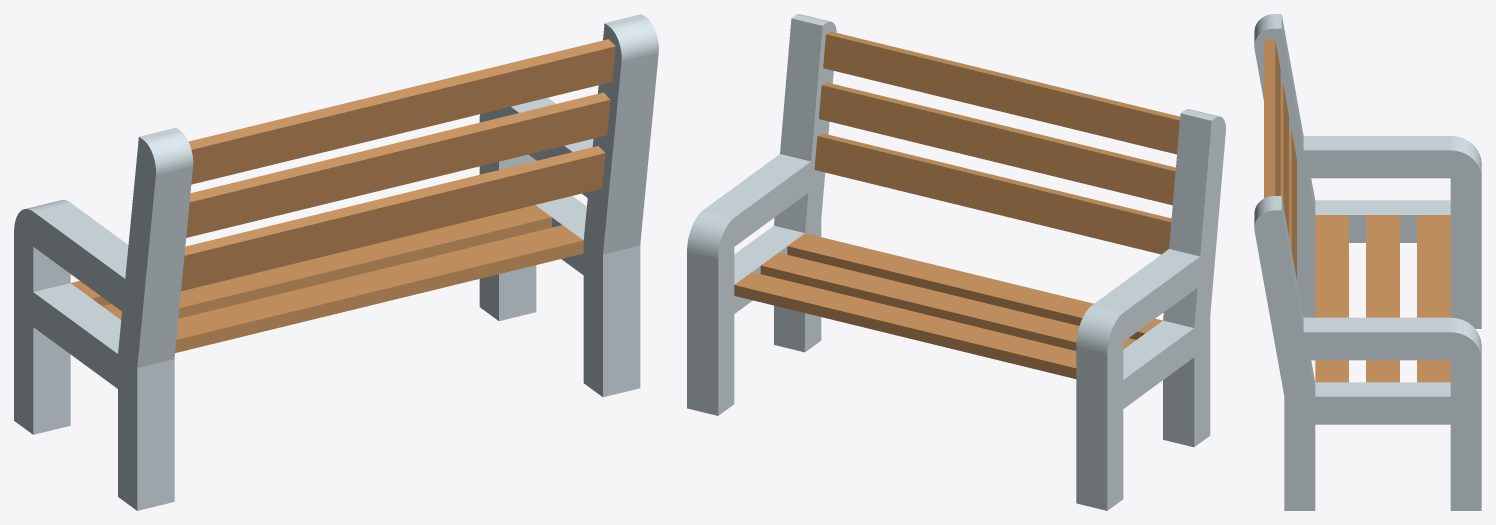
The model's file is bench.fbx.
3 views of the same model, side by side, from view 1: azimuth 30°, elevation 25°; view 2: azimuth 150°, elevation 25°; view 3: azimuth 270°, elevation 25° (orthographic). The views are drawn at different scales.
Parts seen in each view (by area): view 1: bench %8angles; view 2: bench %8angles; view 3: bench %8angles.
Boxes of the visible parts, left/top/right/bottom form: bench %8angles: left=14, top=14, right=658, bottom=510; bench %8angles: left=687, top=14, right=1225, bottom=510; bench %8angles: left=1254, top=14, right=1481, bottom=510.
Bounding box in the file's own units: 7.69 × 5.49 × 3.76.
